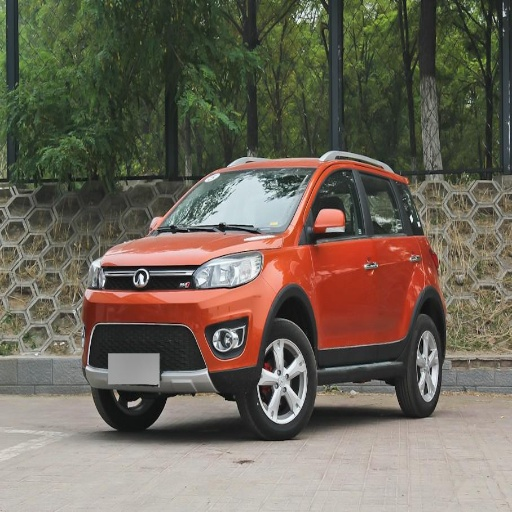front_bumper: (85, 261, 274, 394)
front_glass: (155, 168, 312, 234)
front_left_door: (303, 161, 378, 367)
